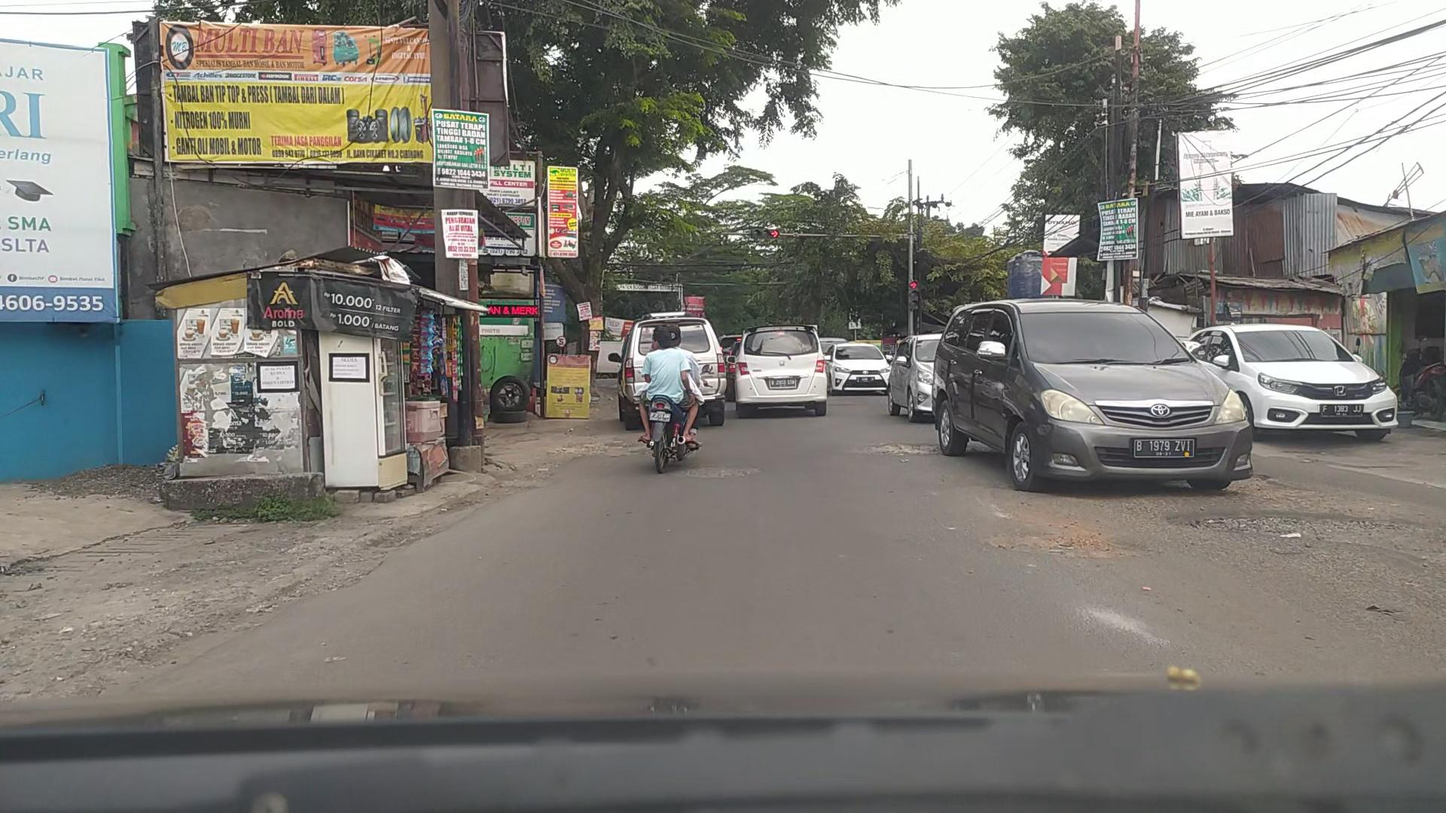pothole: (1167, 511, 1446, 569), (983, 528, 1159, 559), (680, 464, 768, 480), (857, 440, 941, 456)
